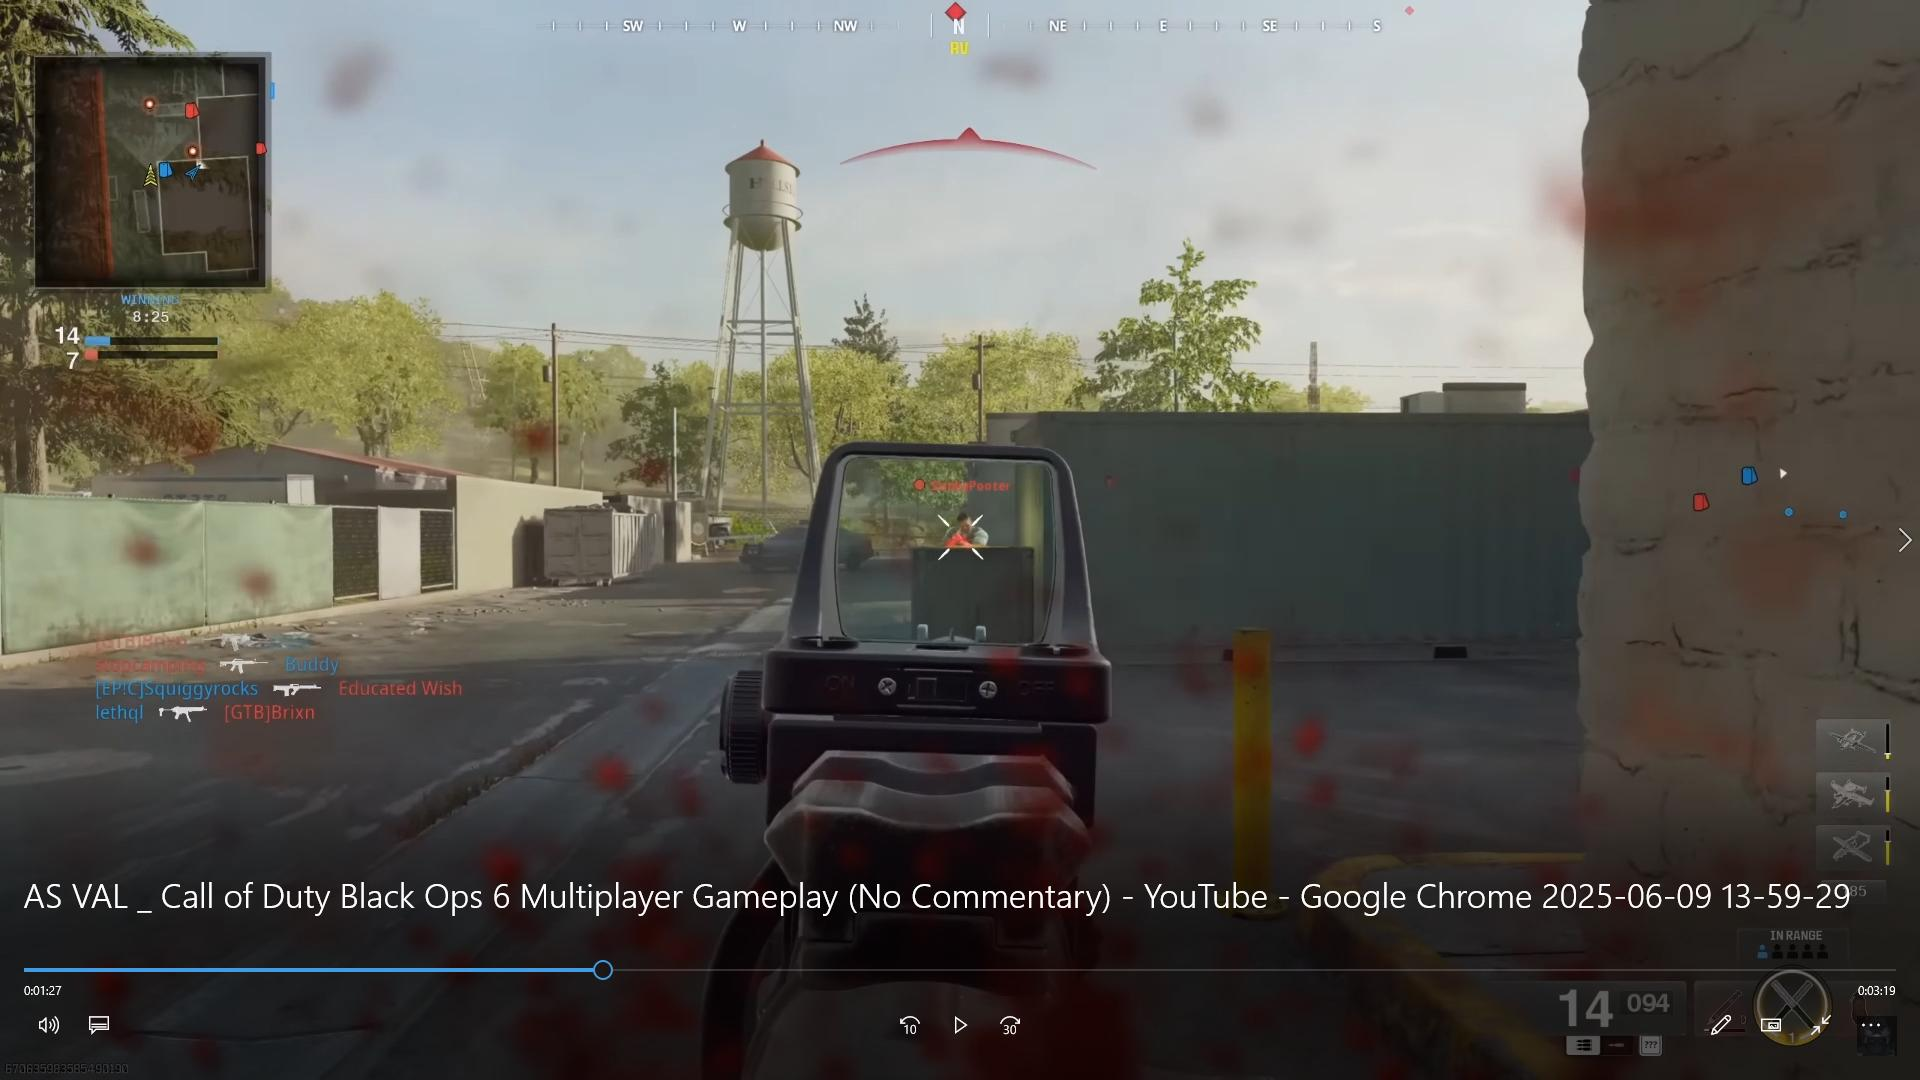Enemy: (940, 508, 996, 551)
